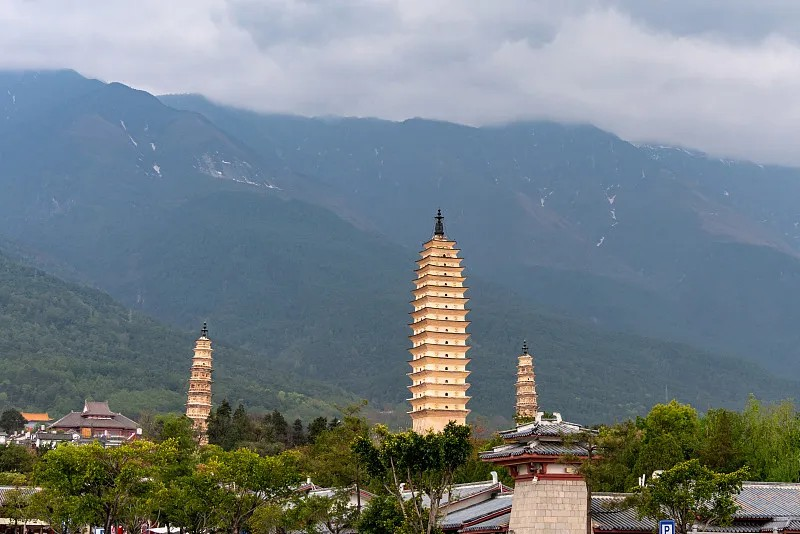ThreePagoda: (405, 209, 472, 434)
